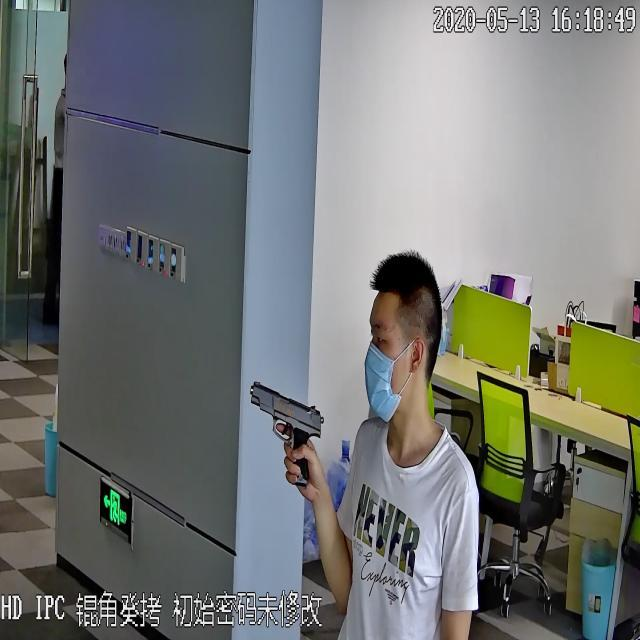gun: (247, 370, 327, 486)
